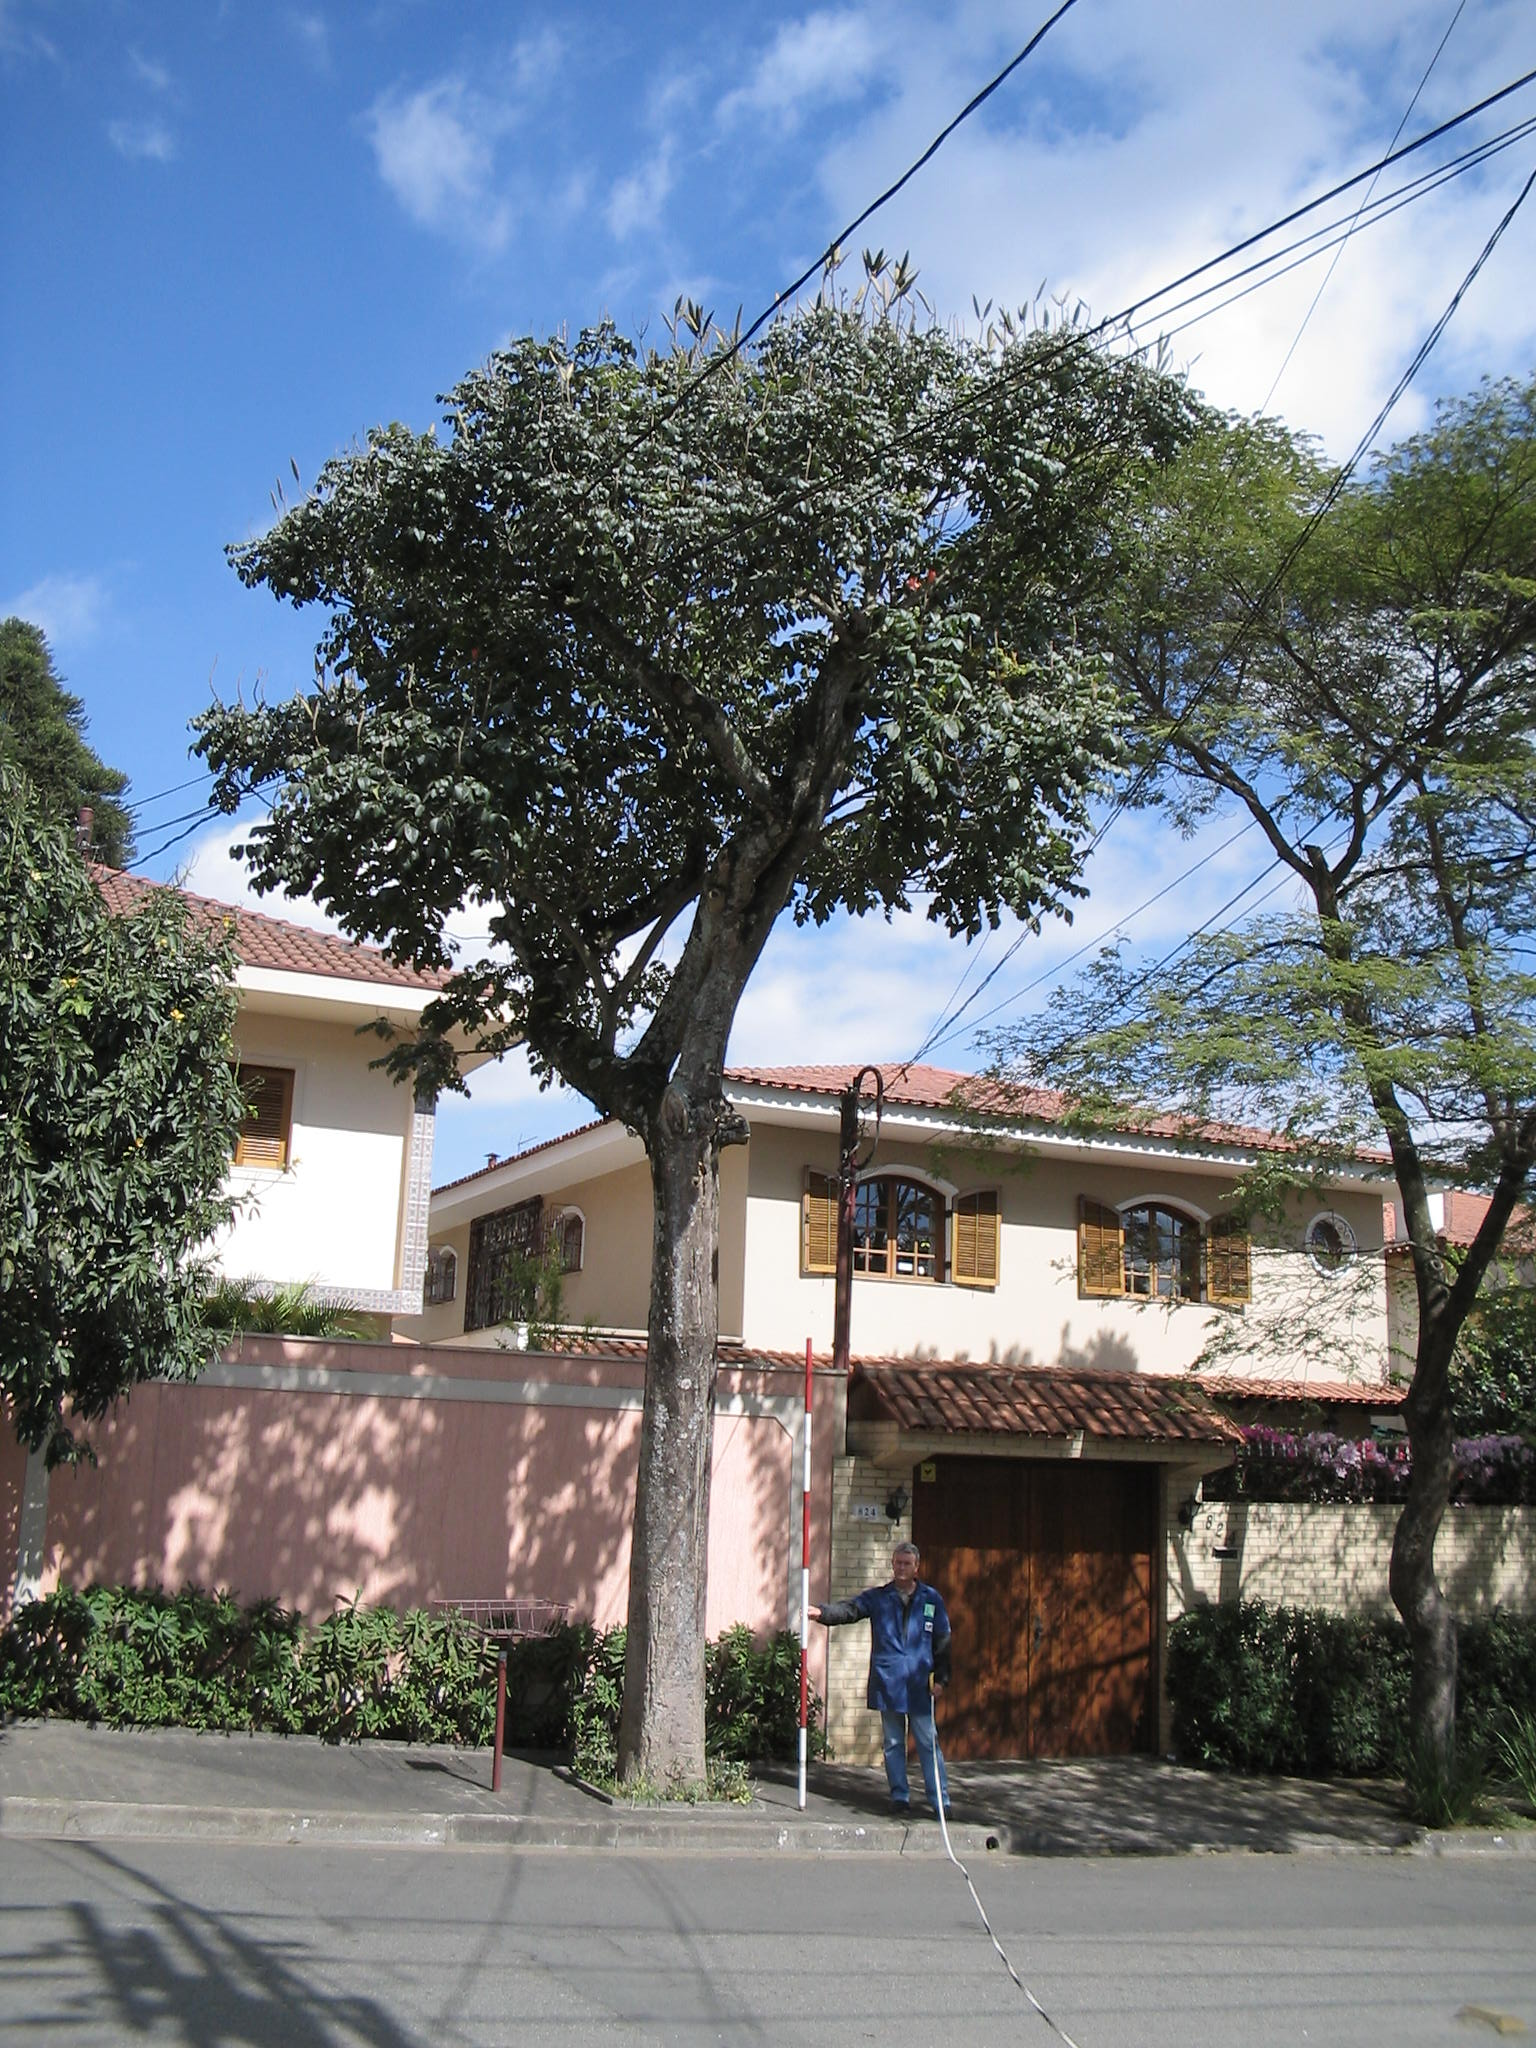crown: (216, 253, 1220, 1171), (1167, 387, 1530, 1192)
stem: (573, 1147, 778, 1795), (1341, 1337, 1504, 1824)
stick: (765, 1337, 849, 1811)
tree: (207, 250, 1221, 1800), (1162, 387, 1533, 1829)
